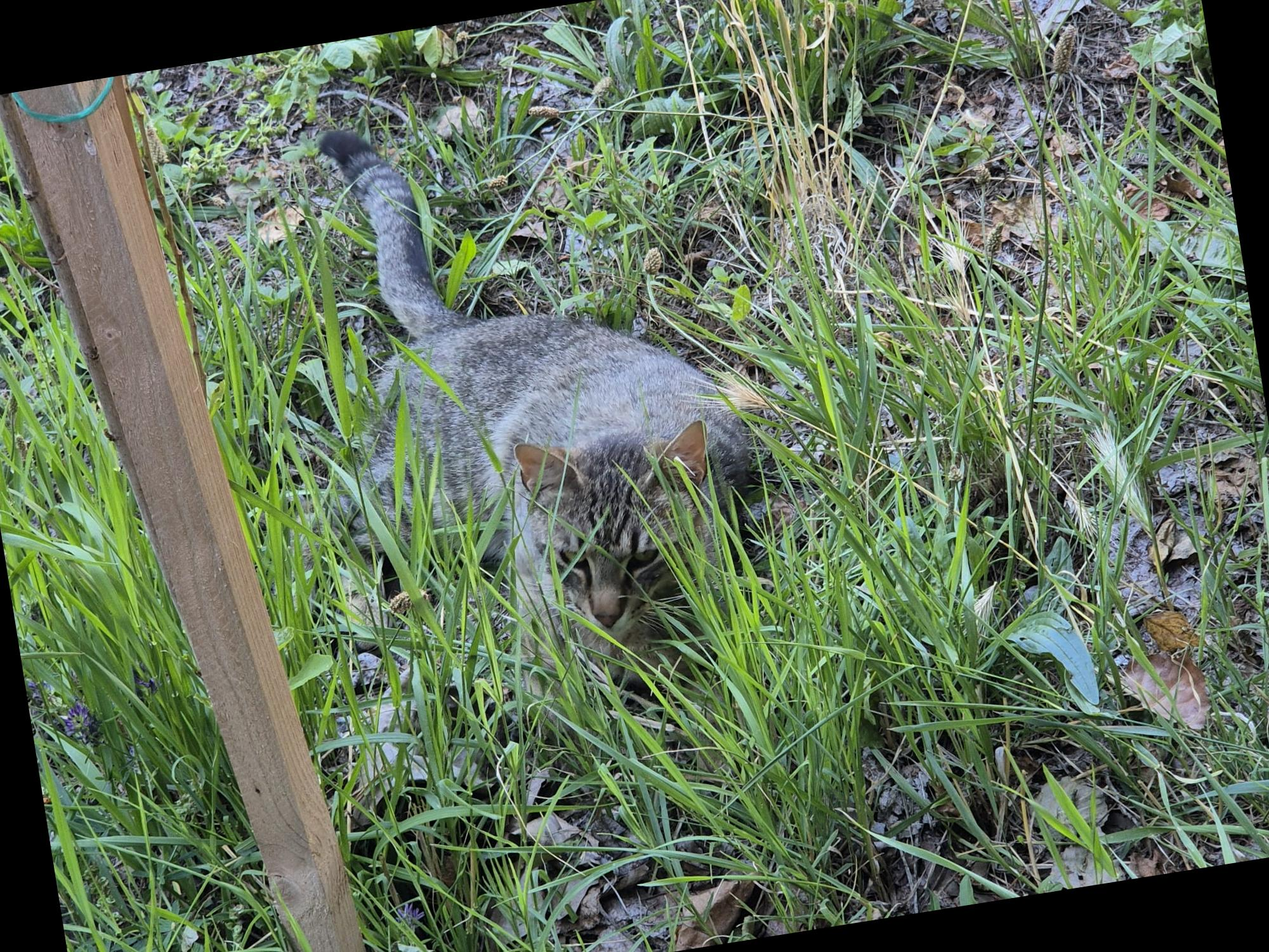macka: (294, 75, 786, 678)
